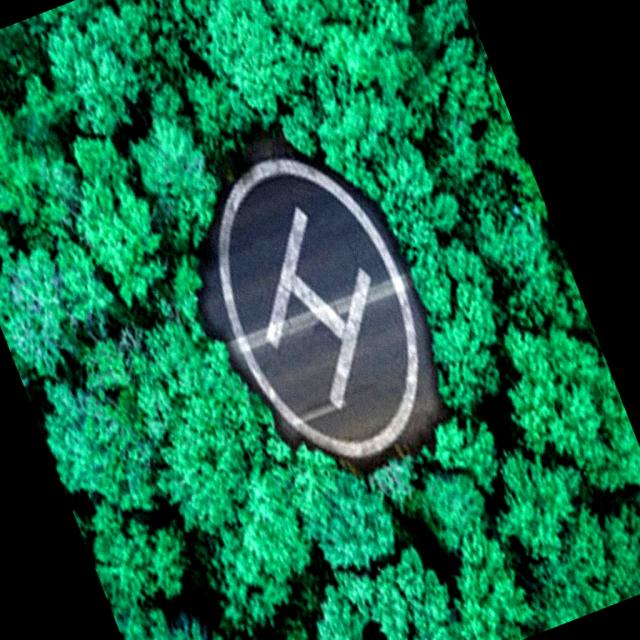helipad: (211, 154, 421, 460)
